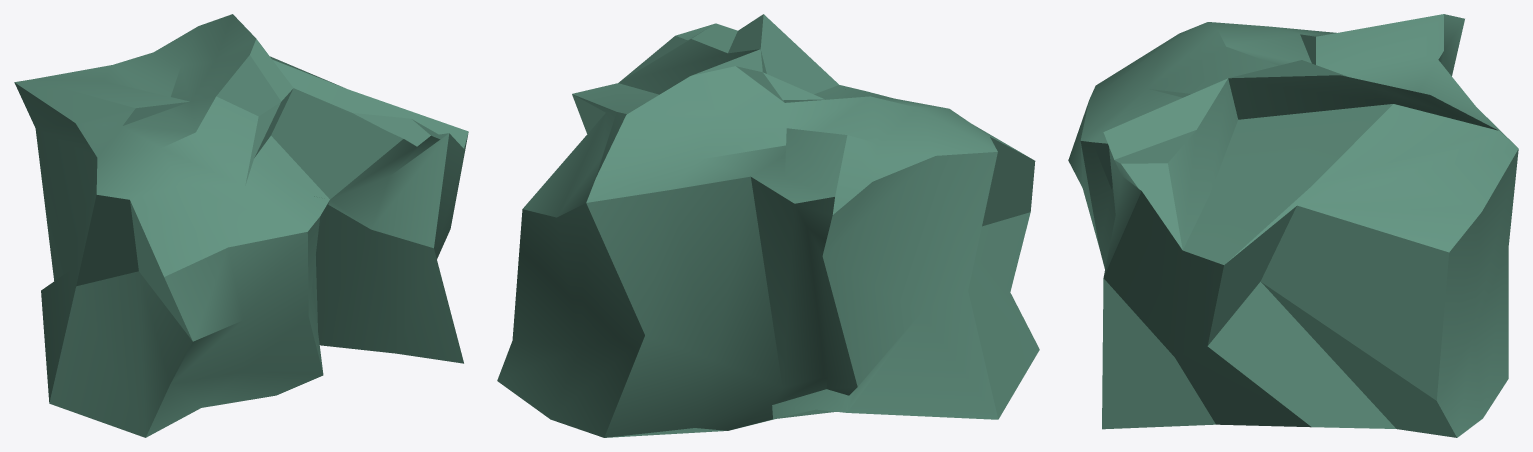
Rendered from cliffs03.fbx.
3 views of the same model, side by side, from view 1: azimuth 30°, elevation 25°; view 2: azimuth 150°, elevation 25°; view 3: azimuth 270°, elevation 25° (orthographic). The views are drawn at different scales.
Parts seen in each view (by area): view 1: Cube.002; view 2: Cube.002; view 3: Cube.002.
Boxes of the visible parts, x1=… form: Cube.002: x1=14, y1=14, x2=468, y2=437; Cube.002: x1=497, y1=14, x2=1039, y2=437; Cube.002: x1=1068, y1=14, x2=1518, y2=437.
Bounding box in the file's own units: 1310 × 935 × 1144.
